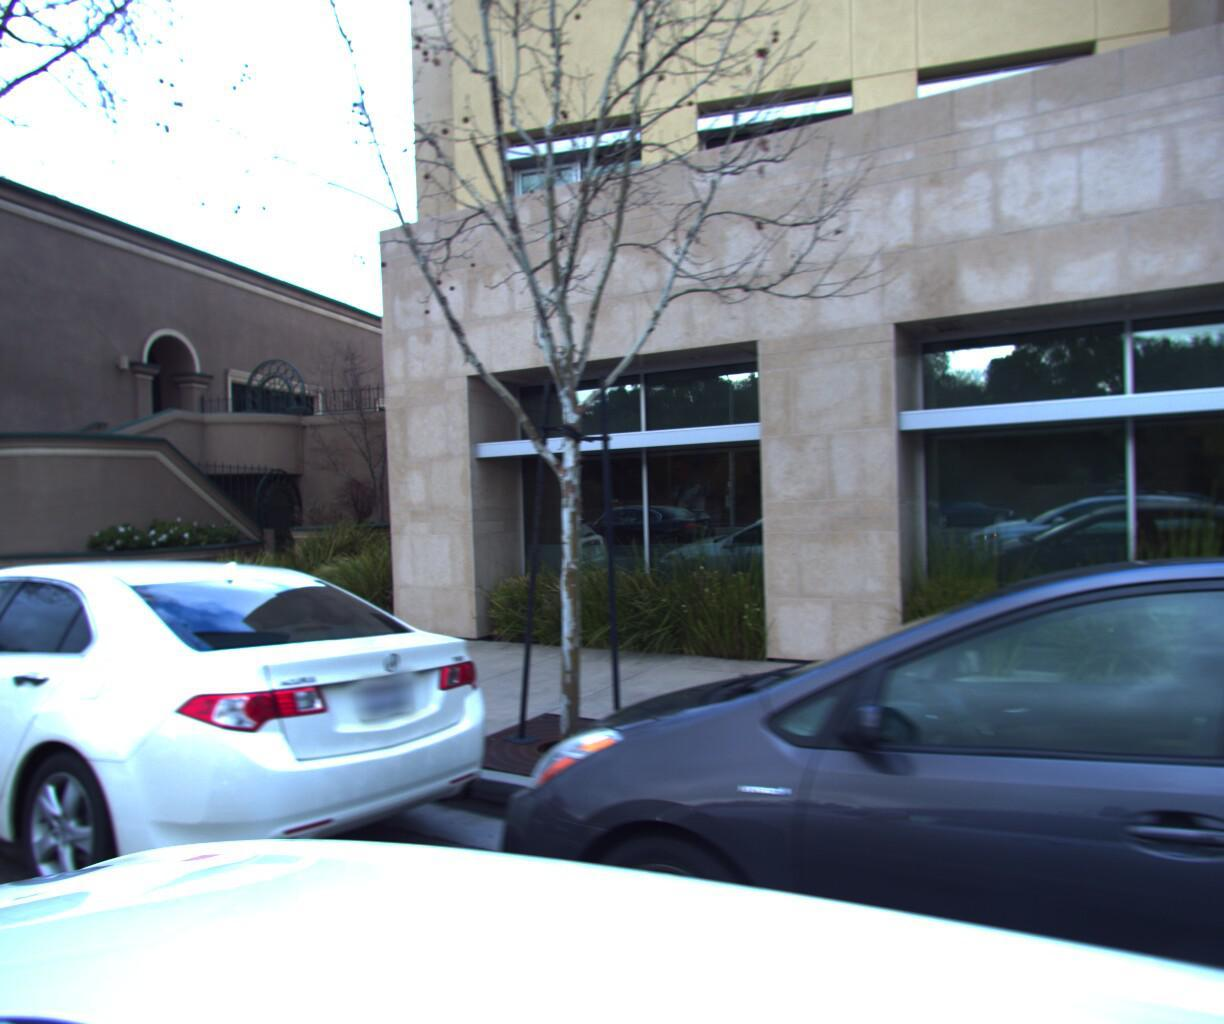car: (406, 514, 1224, 1024), (0, 541, 532, 1005), (0, 555, 27, 752)
